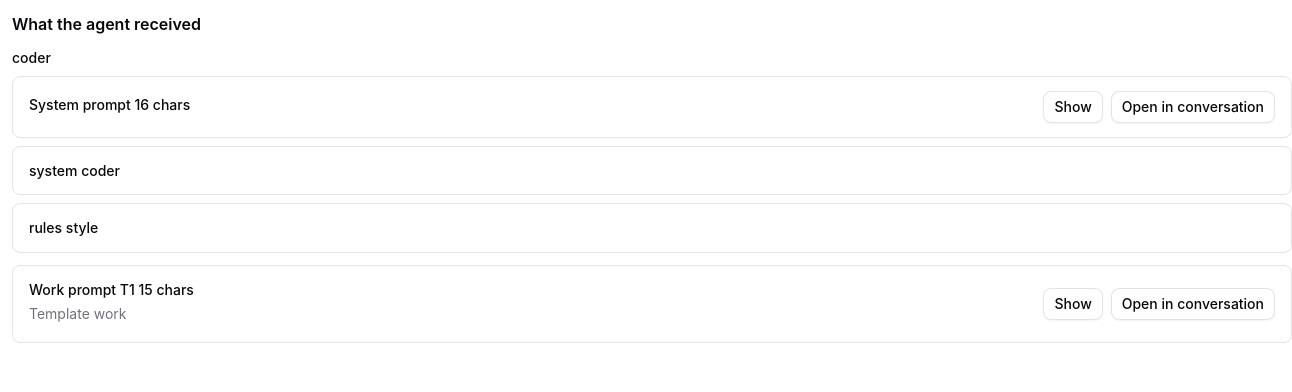
Test: PromptBlock › shows and hides the work prompt text
Click the button "Show" in the row of "Work prompt T1 15 chars". click: (1073, 304)
box: top-left (1043, 288), bottom-right (1103, 320)
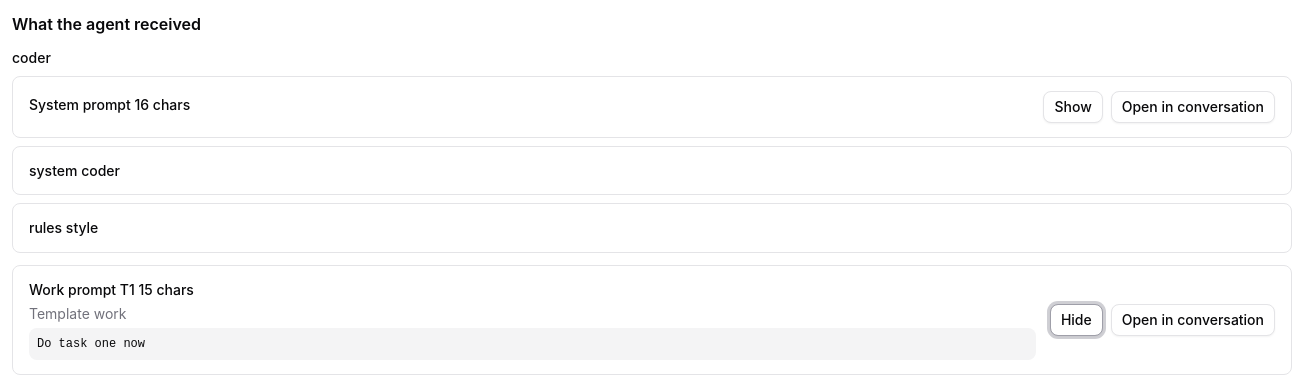
Now the text "Do task one now" is shown, box top-left (29, 328), bottom-right (1036, 360)
Click the button "Hide". click: (1076, 320)
box: top-left (1050, 304), bottom-right (1103, 336)
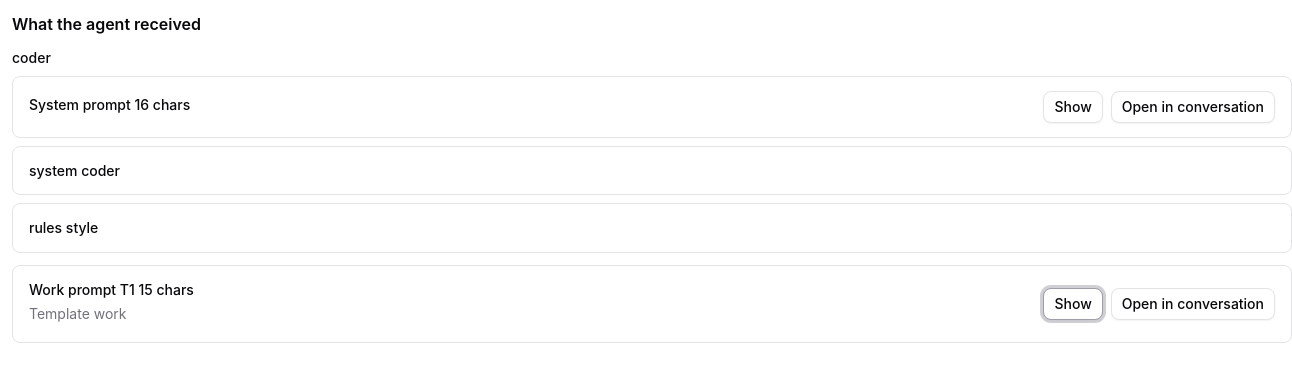
Now the text "Do task one now" is gone
